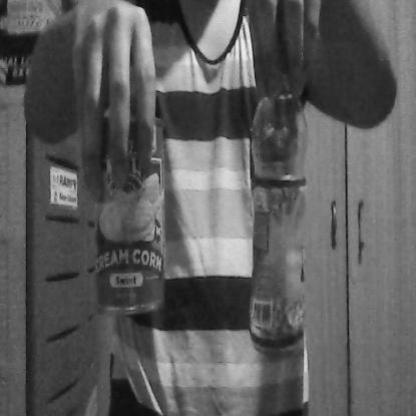Plastic Bottle: (236, 21, 320, 370)
